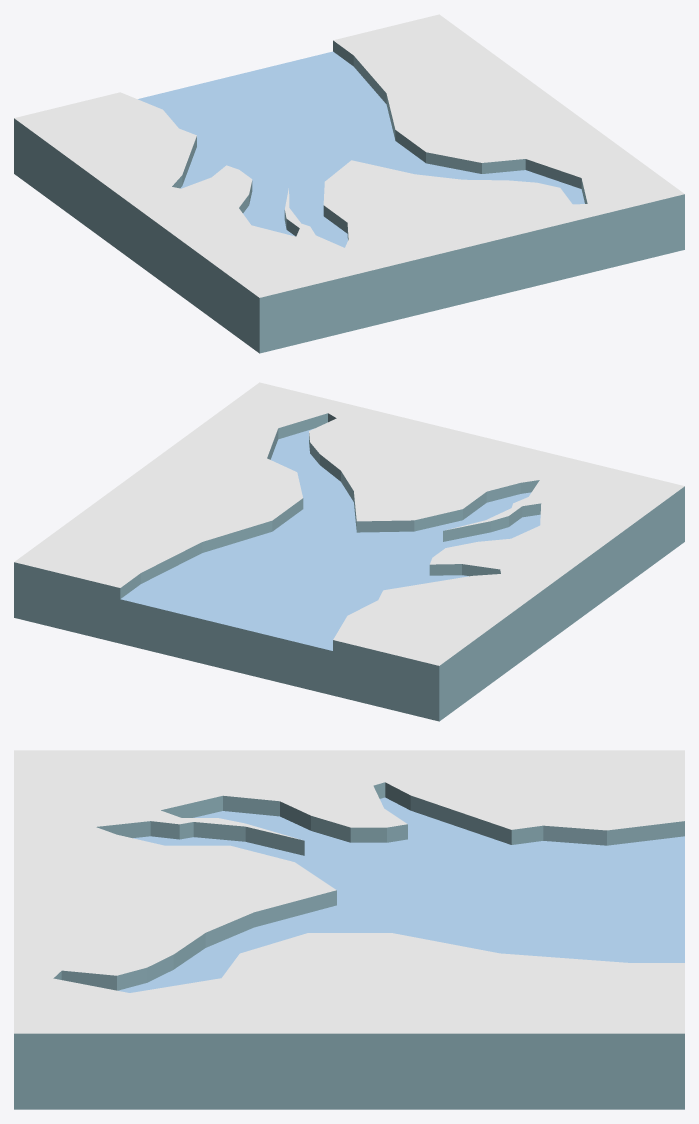
Rendered from Terrain_Tile_Ice_Snow_River_End_02.fbx.
3 views of the same model, one above another, from view 1: azimuth 30°, elevation 25°; view 2: azimuth 150°, elevation 25°; view 3: azimuth 270°, elevation 25° (orthographic). The views are drawn at different scales.
Visible parts, largest first — view 1: Terrain_Tile_Ice_Snow_River_End_02; view 2: Terrain_Tile_Ice_Snow_River_End_02; view 3: Terrain_Tile_Ice_Snow_River_End_02.
Boxes of the visible parts, box(x1,y1,x2,y2) form: Terrain_Tile_Ice_Snow_River_End_02: box(14, 14, 684, 353); Terrain_Tile_Ice_Snow_River_End_02: box(14, 382, 684, 721); Terrain_Tile_Ice_Snow_River_End_02: box(14, 750, 684, 1109).
Size of the model in its own units: 126 by 15.75 by 126.
